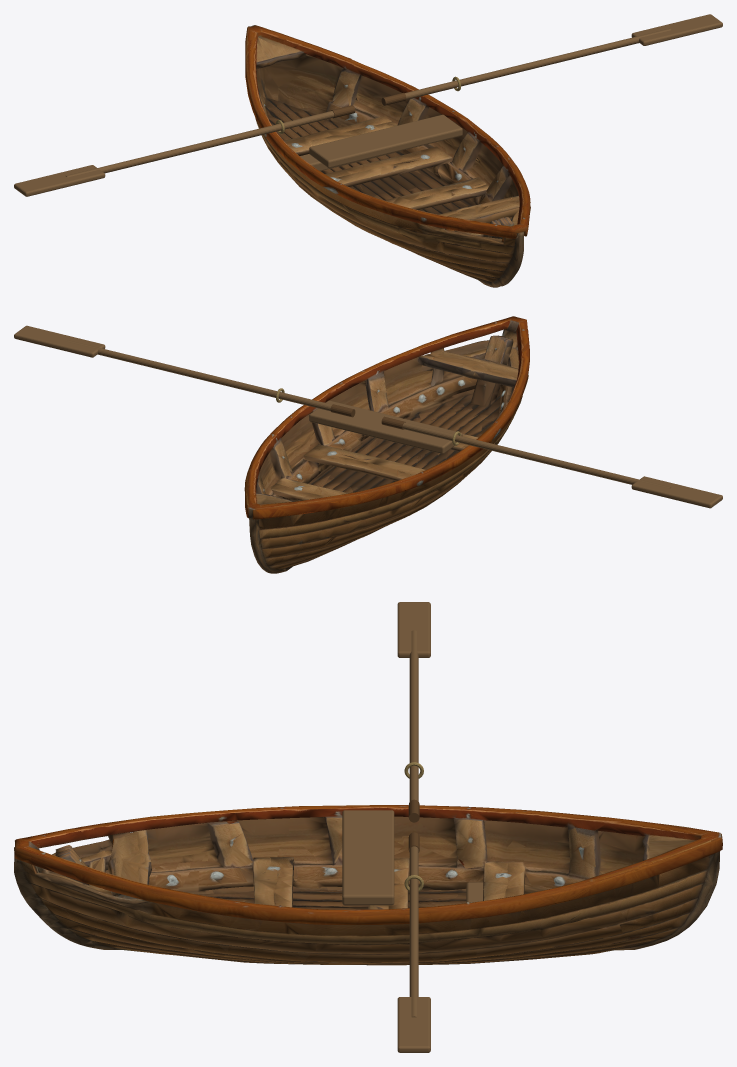
Rendered from rowing_skiff.glb.
3 views of the same model, one above another, from view 1: azimuth 30°, elevation 25°; view 2: azimuth 150°, elevation 25°; view 3: azimuth 270°, elevation 25° (orthographic). The views are drawn at different scales.
Parts seen in each view (by area): view 1: ClinkerHull, RowingThwart, OarShaft_R, OarShaft_L, OarBlade_L, OarBlade_R; view 2: ClinkerHull, RowingThwart, OarShaft_R, OarShaft_L, OarBlade_L, OarBlade_R; view 3: ClinkerHull, RowingThwart, OarBlade_R, OarBlade_L, OarShaft_R, OarShaft_L.
Boxes of the visible parts, x1,y1,x2,y2 form: ClinkerHull: [245, 25, 530, 287]; RowingThwart: [309, 114, 462, 168]; OarShaft_R: [404, 28, 670, 99]; OarShaft_L: [66, 111, 334, 177]; OarBlade_L: [14, 165, 105, 196]; OarBlade_R: [631, 14, 722, 45]; ClinkerHull: [244, 316, 529, 573]; RowingThwart: [309, 400, 462, 453]; OarShaft_R: [65, 340, 331, 411]; OarShaft_L: [402, 422, 670, 488]; OarBlade_L: [631, 476, 722, 508]; OarBlade_R: [14, 325, 105, 357]; ClinkerHull: [14, 805, 722, 965]; RowingThwart: [342, 810, 394, 905]; OarBlade_R: [397, 997, 430, 1052]; OarBlade_L: [397, 602, 430, 657]; OarShaft_R: [409, 846, 418, 1017]; OarShaft_L: [409, 630, 418, 801].
Size of the model in its own units: 5.06 by 0.6865 by 3.4.
Materials: 4 (1 with a texture image).
